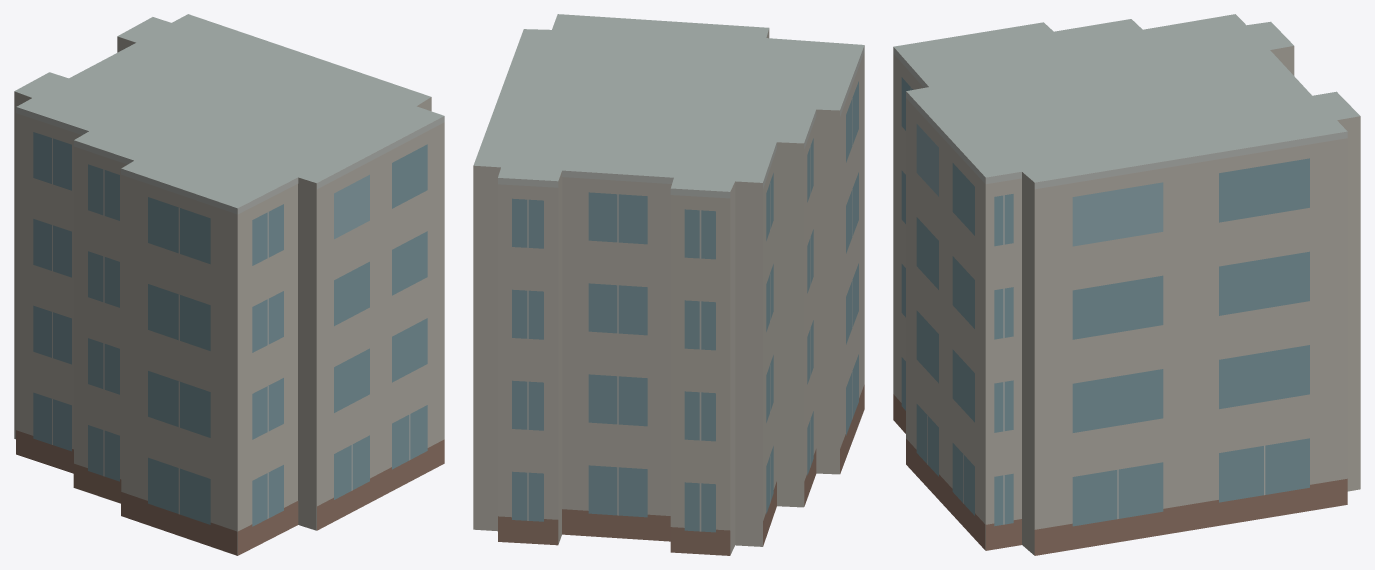
Rendered from survey-upis-32827162.glb.
3 views of the same model, side by side, from view 1: azimuth 30°, elevation 25°; view 2: azimuth 150°, elevation 25°; view 3: azimuth 270°, elevation 25° (orthographic). The views are drawn at different scales.
Visible parts, largest first — view 1: survey-upis-32827162.tmp; view 2: survey-upis-32827162.tmp; view 3: survey-upis-32827162.tmp.
Boxes of the visible parts, bbox=[...] form: survey-upis-32827162.tmp: bbox=[14, 14, 444, 555]; survey-upis-32827162.tmp: bbox=[473, 14, 864, 555]; survey-upis-32827162.tmp: bbox=[893, 14, 1360, 555].
Size of the model in its own units: 13.22 by 13.63 by 15.47.
